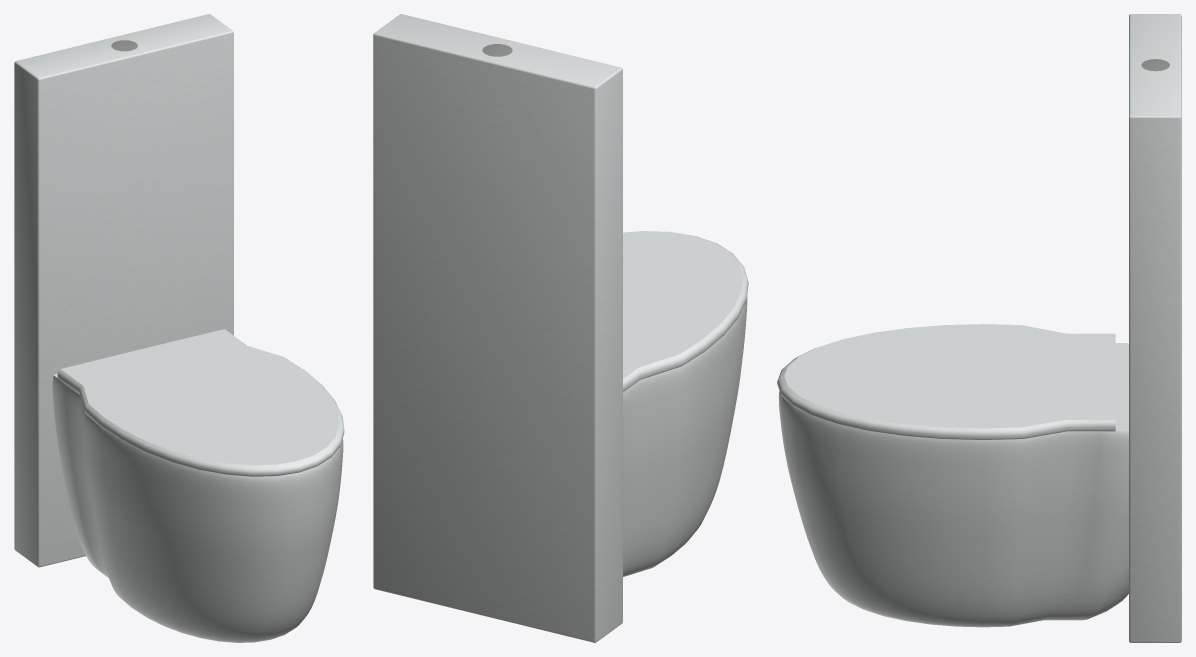
Rendered from Toilet_B02.FBX.
3 views of the same model, side by side, from view 1: azimuth 30°, elevation 25°; view 2: azimuth 150°, elevation 25°; view 3: azimuth 270°, elevation 25° (orthographic). The views are drawn at different scales.
Visible parts, largest first — view 1: Toilet_B02; view 2: Toilet_B02; view 3: Toilet_B02.
Boxes of the visible parts, bbox=[...] form: Toilet_B02: bbox=[14, 14, 344, 642]; Toilet_B02: bbox=[373, 14, 748, 642]; Toilet_B02: bbox=[777, 14, 1181, 642].
Bounding box in the file's own units: 24.72 × 56.33 × 39.13.
